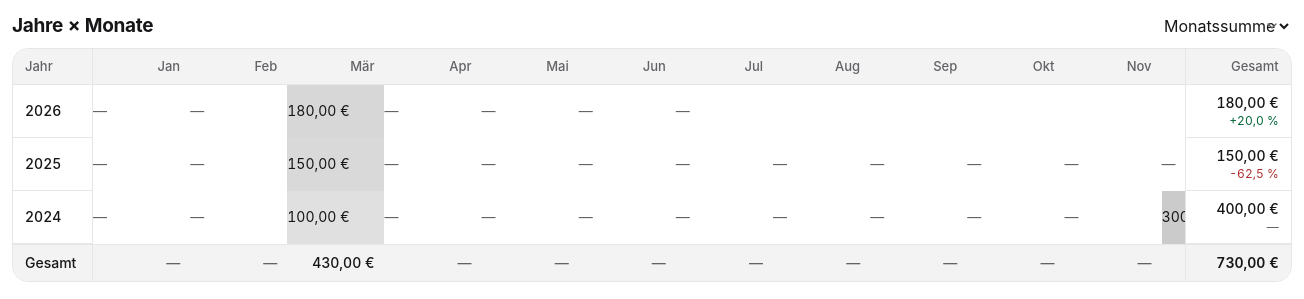
YearMonthMatrix ab md › summiert in der Ansicht „Kumuliert" über das Jahr
Select "Kumuliert" in the dropdown named "Ansicht". click: (1226, 26)
box: left=1160, top=15, right=1292, bottom=37
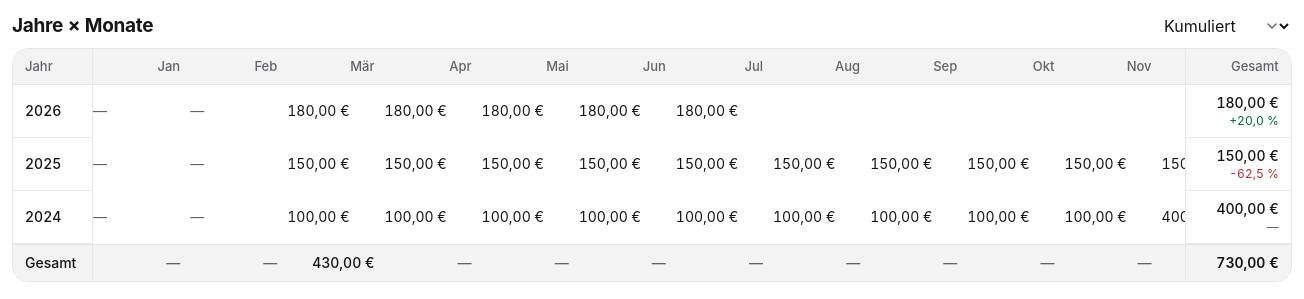
Expected: the 1st text "400,00 €" is shown, left=1162, top=208, right=1224, bottom=225
